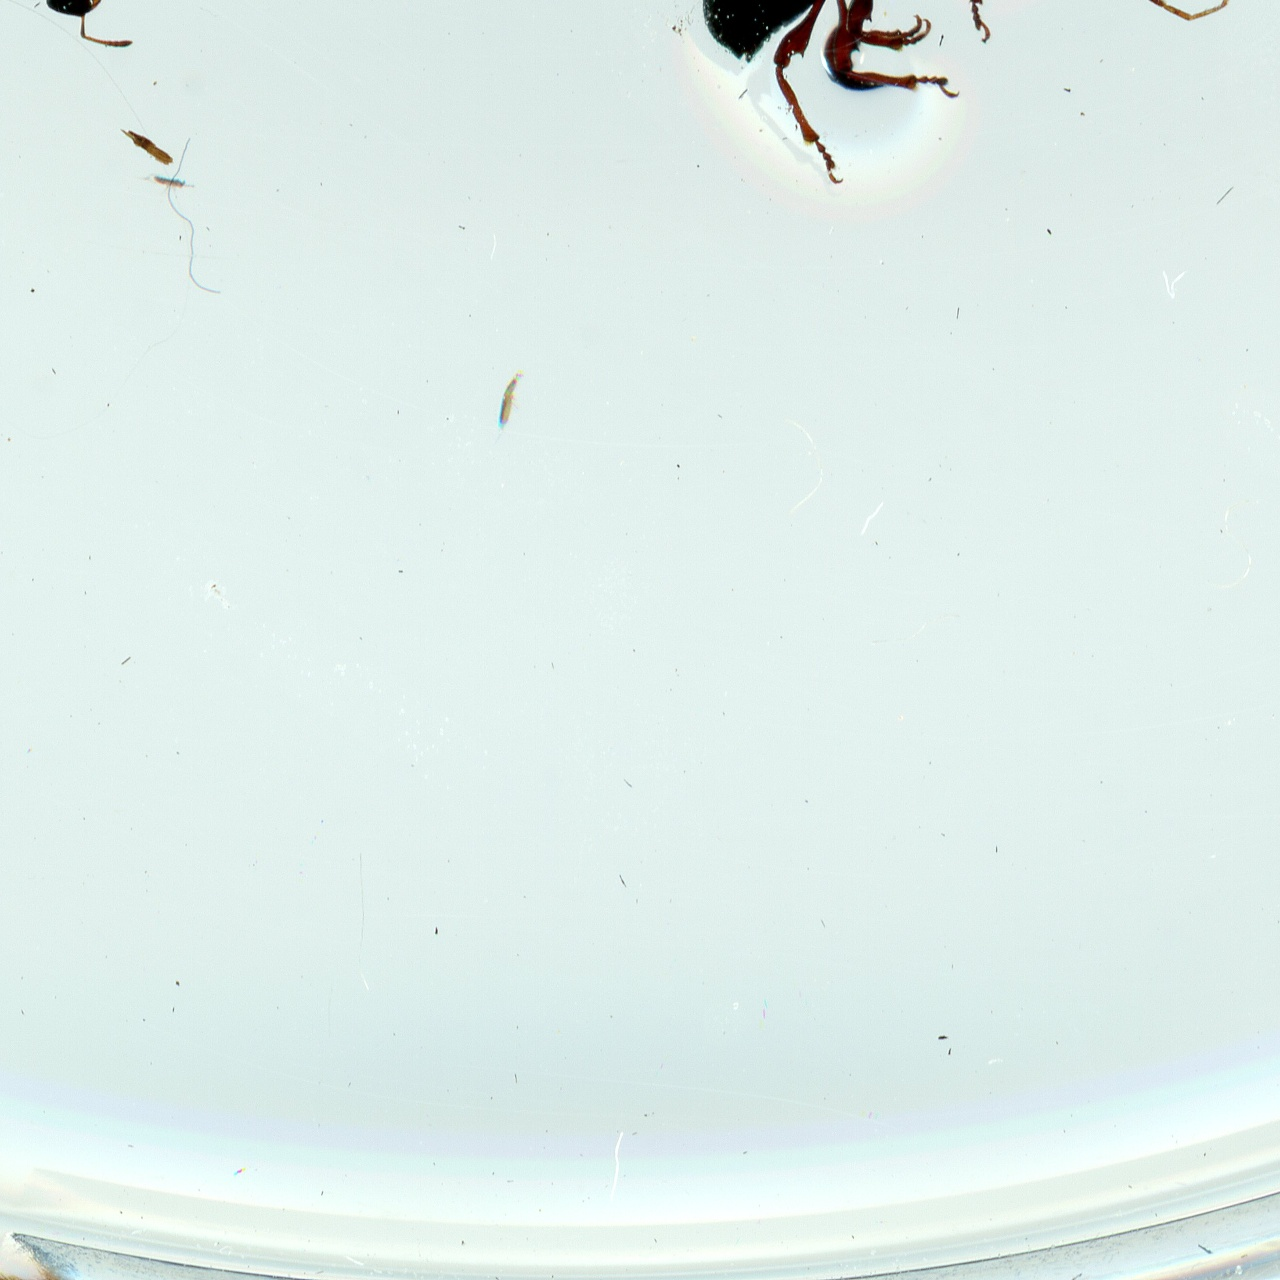arthropod: (653, 0, 1135, 206), (0, 0, 170, 89), (493, 368, 526, 443), (151, 171, 195, 198)
